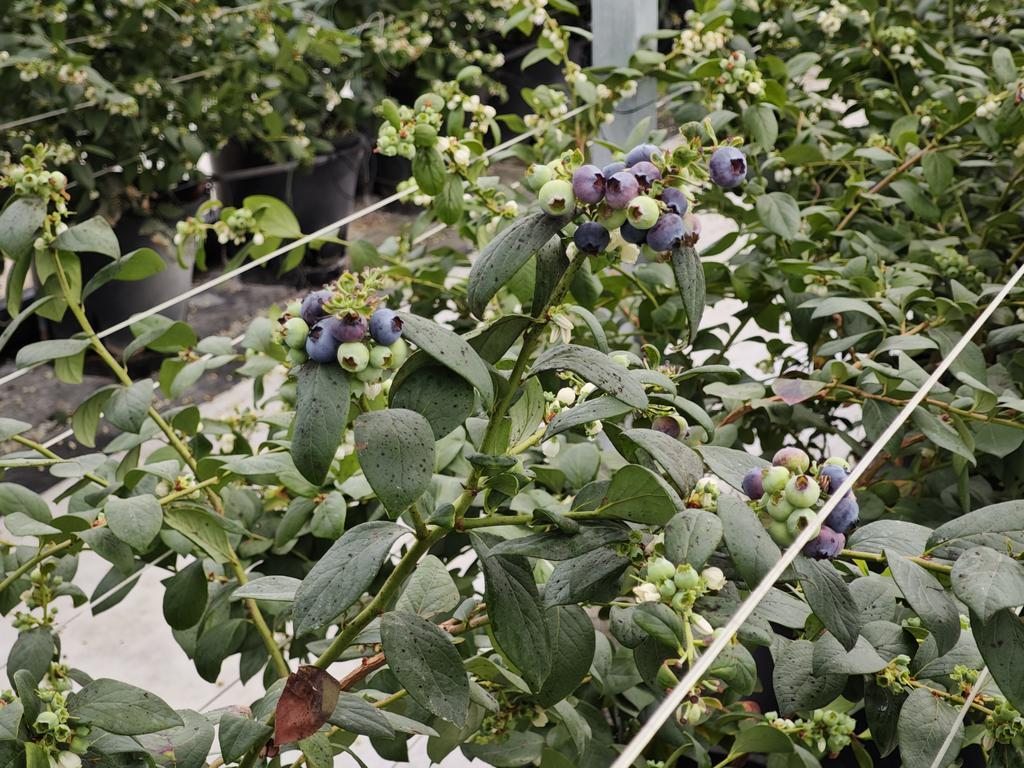RipeBlueBerry: (646, 214, 689, 254), (710, 147, 749, 190), (304, 320, 342, 364), (803, 525, 847, 560), (369, 308, 406, 346), (573, 221, 610, 255), (829, 497, 862, 533)
Semi-RipeBlueBerry: (604, 171, 639, 208), (574, 165, 606, 205), (330, 311, 369, 343)
UnripeBlueBerry: (539, 180, 577, 216), (625, 197, 660, 230), (785, 474, 820, 507), (336, 343, 371, 373)
